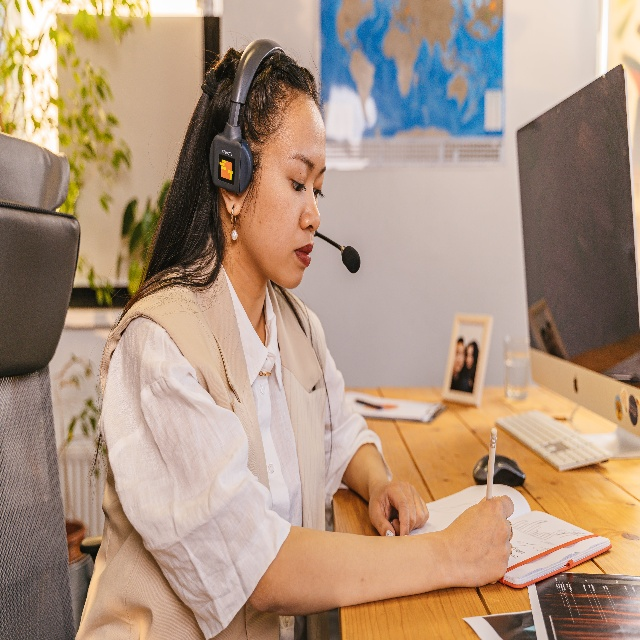Sin_guantes: (450, 497, 516, 587), (366, 477, 434, 549)
